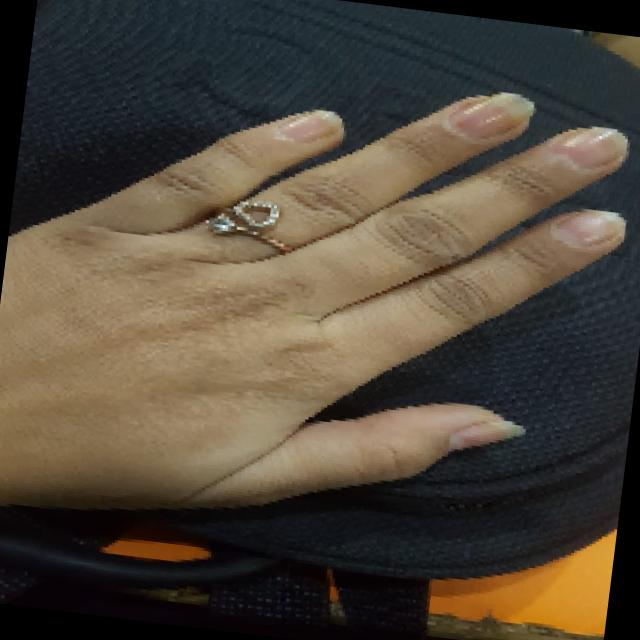Nail: (446, 93, 533, 140), (566, 128, 627, 168), (563, 210, 625, 249), (275, 109, 344, 142), (450, 421, 519, 447)
